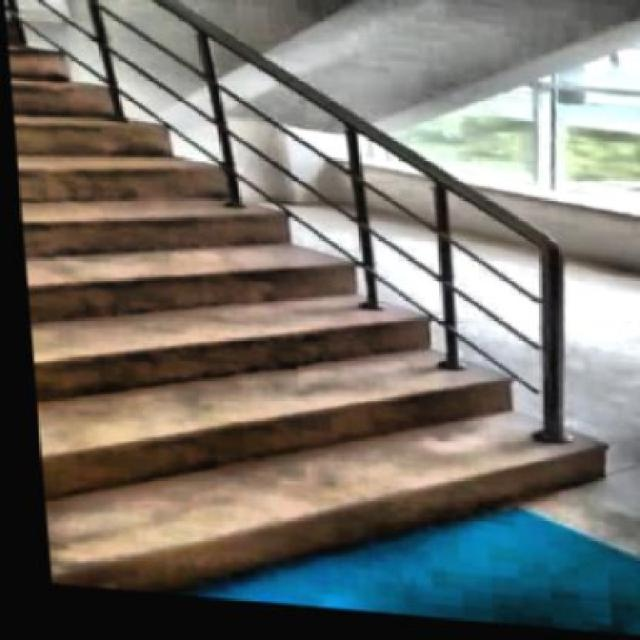stair: (5, 0, 635, 625)
